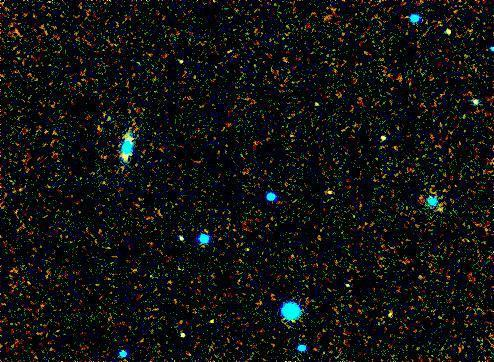star: (427, 194, 457, 224)
